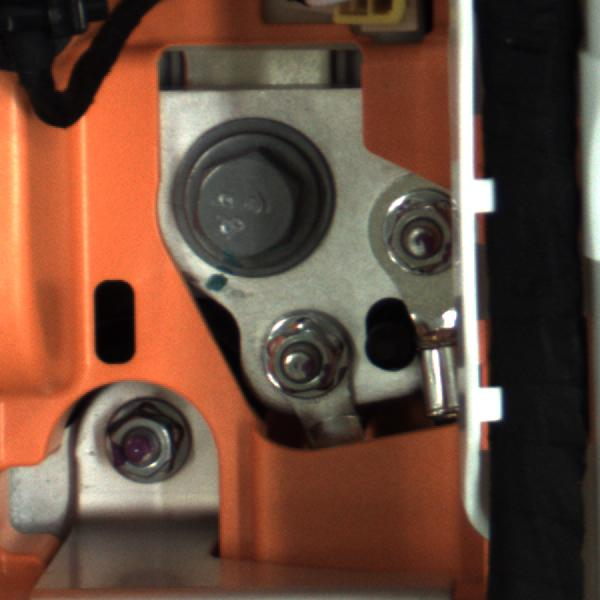nut_b: (162, 117, 341, 276)
screw_s: (97, 397, 200, 490), (257, 316, 354, 401), (387, 191, 465, 288)
